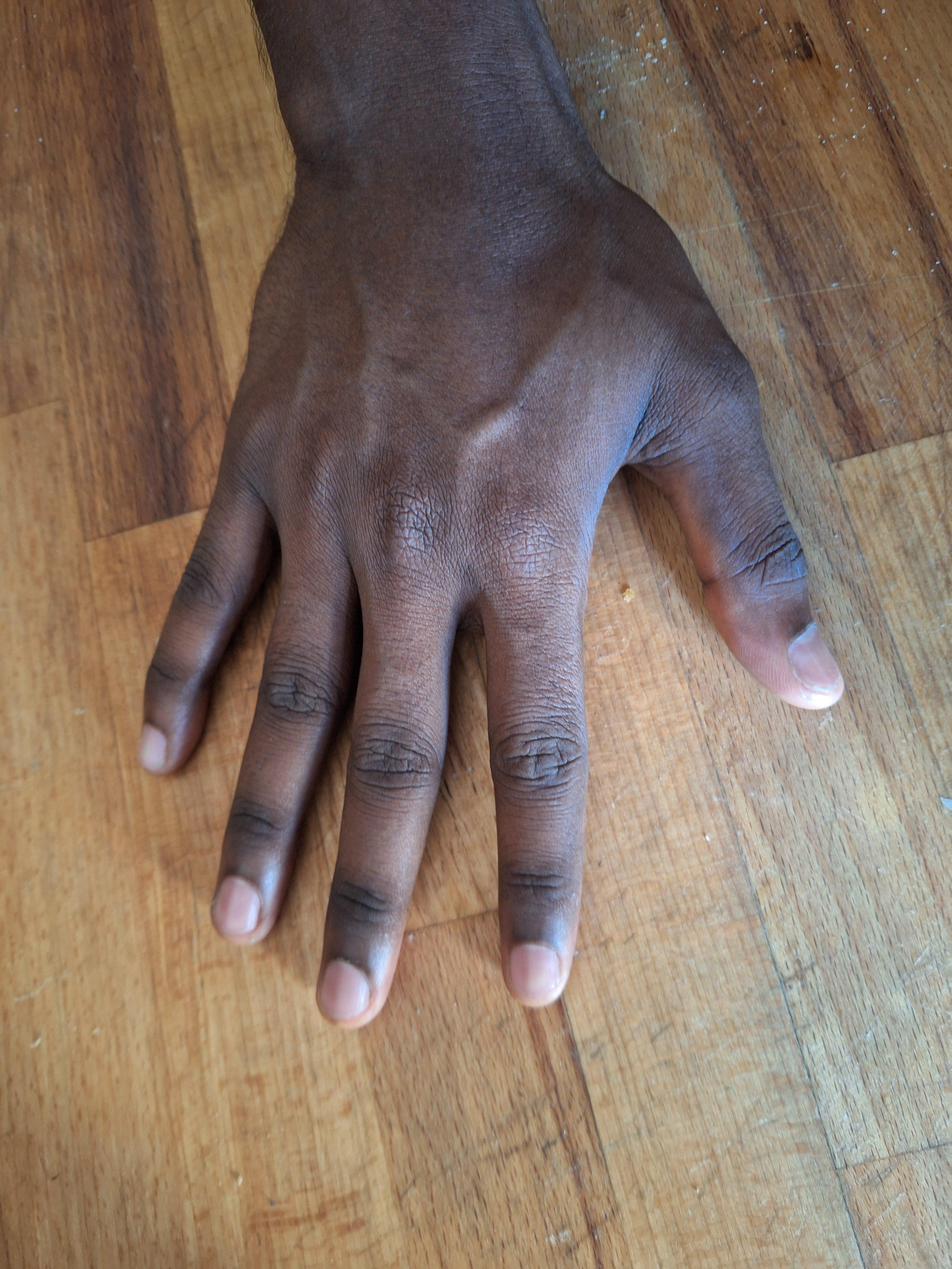Fingernail: (788, 624, 839, 692), (320, 961, 371, 1021), (509, 944, 560, 998), (214, 877, 261, 935), (141, 725, 167, 772)
